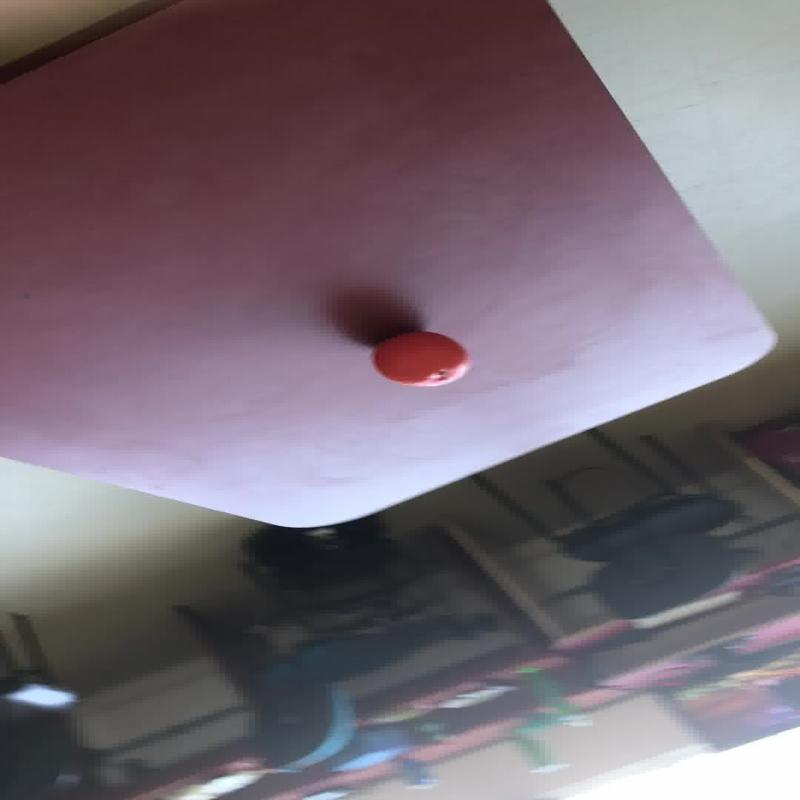orange: (370, 330, 470, 387)
